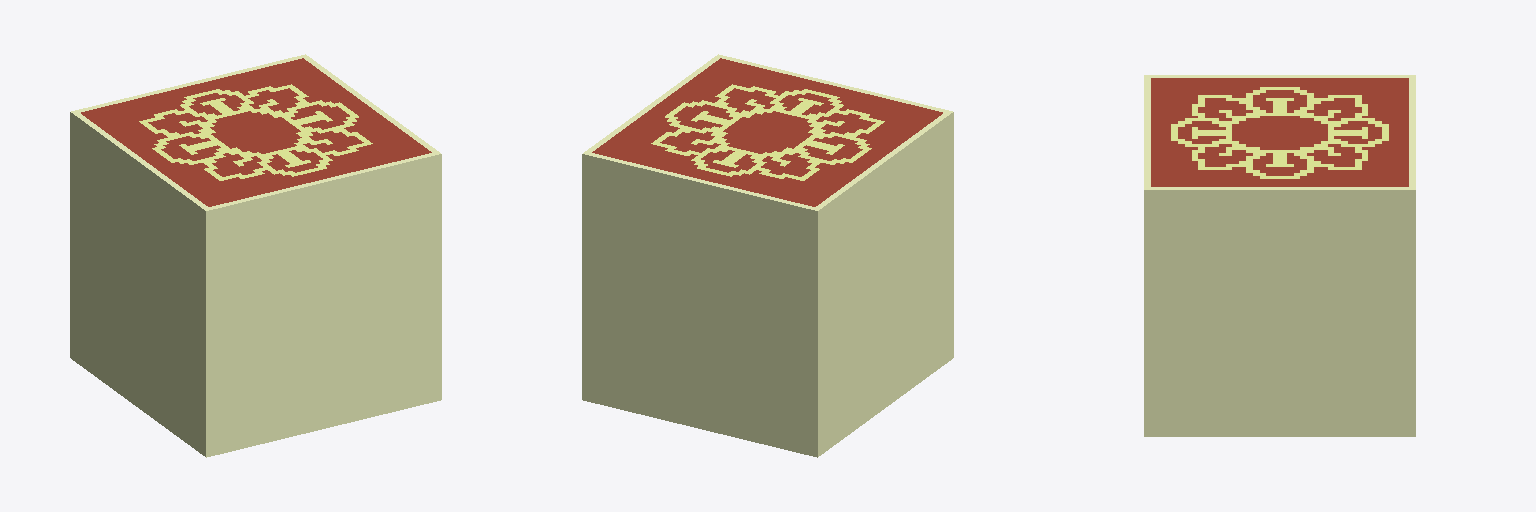
3 views of the same model, side by side, from view 1: azimuth 30°, elevation 25°; view 2: azimuth 150°, elevation 25°; view 3: azimuth 270°, elevation 25° (orthographic).
Visible parts, largest first — view 1: object 1; view 2: object 1; view 3: object 1.
Part boxes in pixels (x1,y1,x2,y2): object 1: (70, 54, 441, 457); object 1: (582, 54, 953, 457); object 1: (1144, 75, 1415, 436).
Size of the model in its own units: 4 by 4 by 4.
Materials: 1 (1 with a texture image).